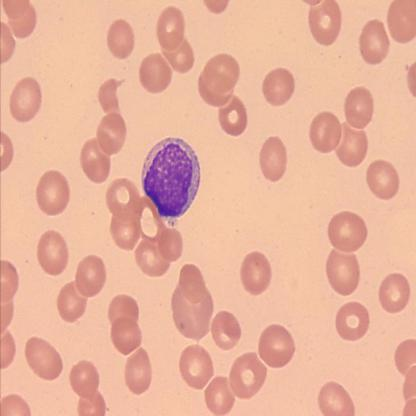Myelocyte: (142, 140, 201, 219)
